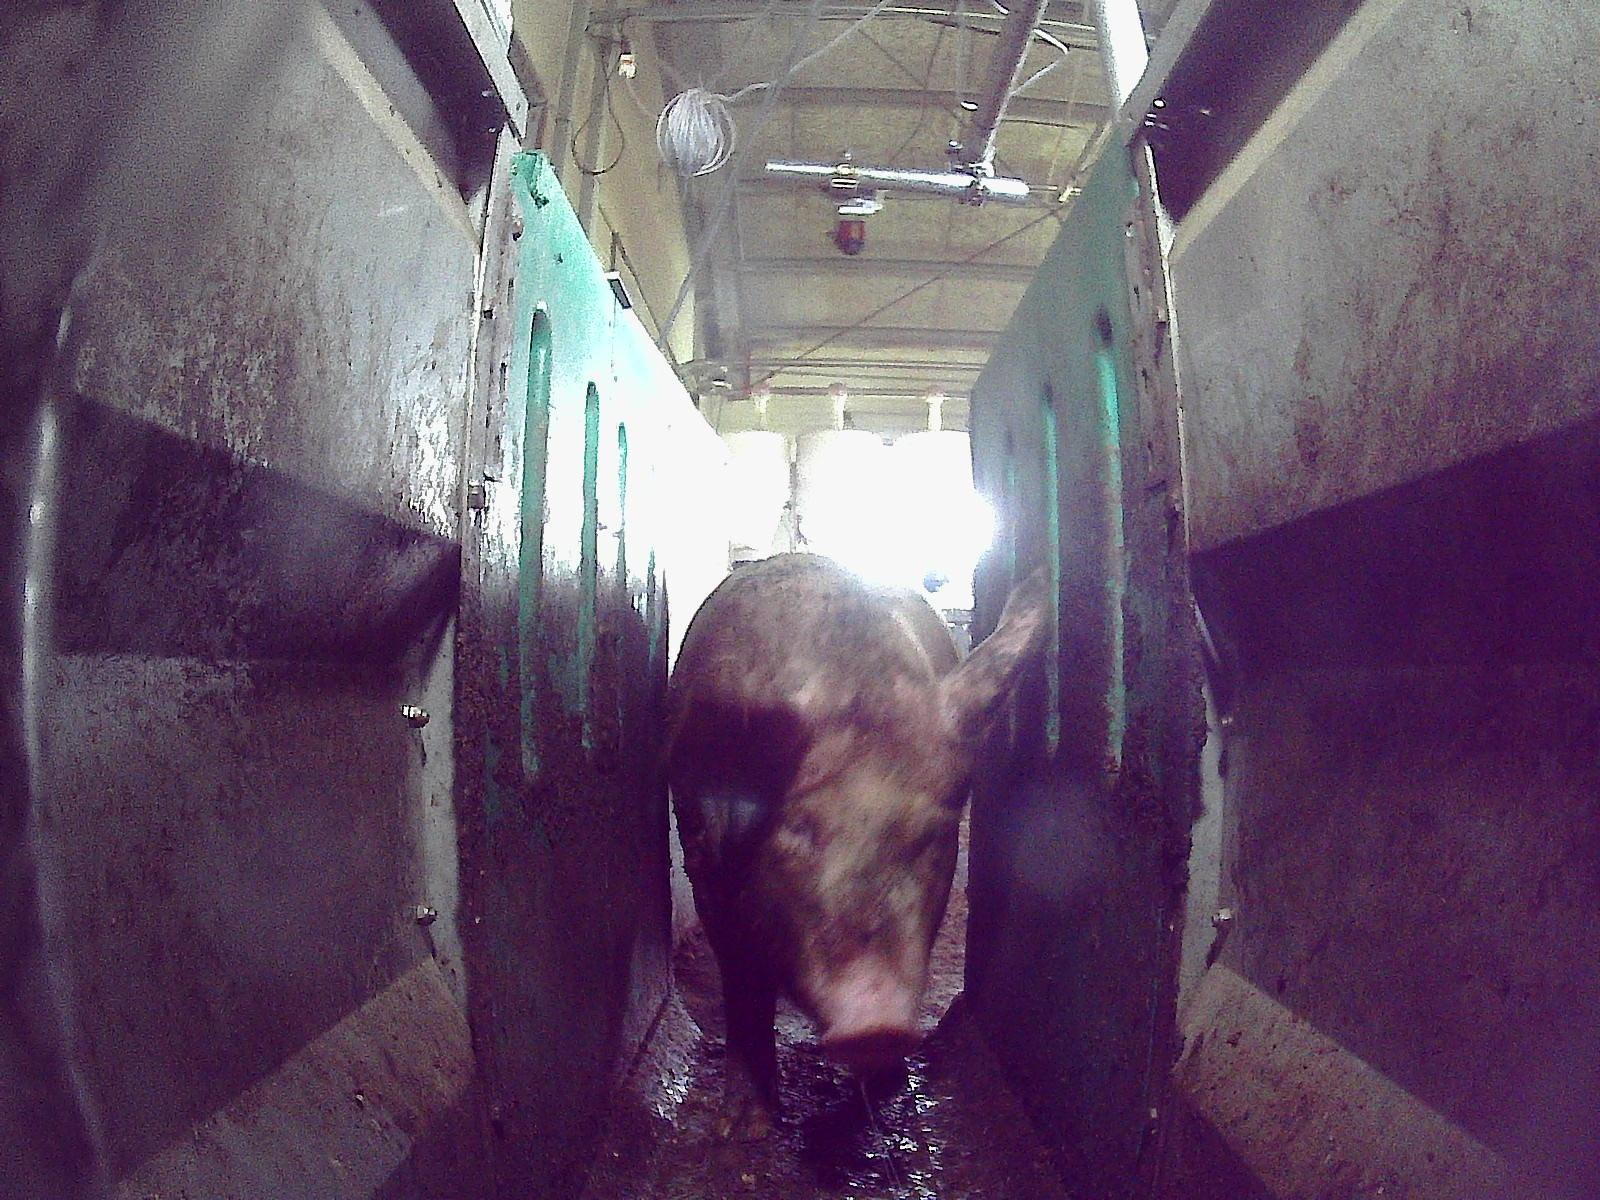Face: (737, 734, 958, 1067)
